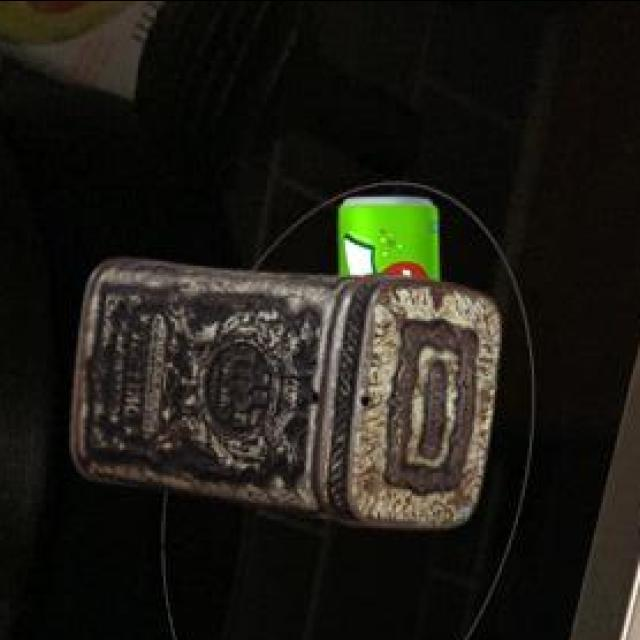logam: (68, 254, 496, 524), (335, 192, 436, 276)
